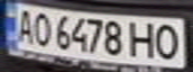4: (66, 15, 87, 53)
6: (51, 12, 72, 51)
7: (84, 16, 106, 54)
8: (103, 17, 127, 56)
A: (9, 6, 39, 45)
H: (127, 19, 160, 60)
O: (151, 21, 184, 61), (30, 9, 54, 47)
